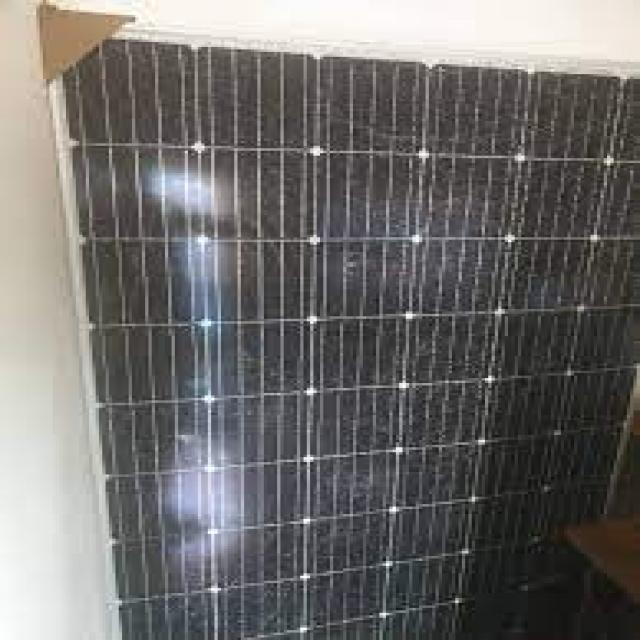faulty: (86, 76, 640, 640)
